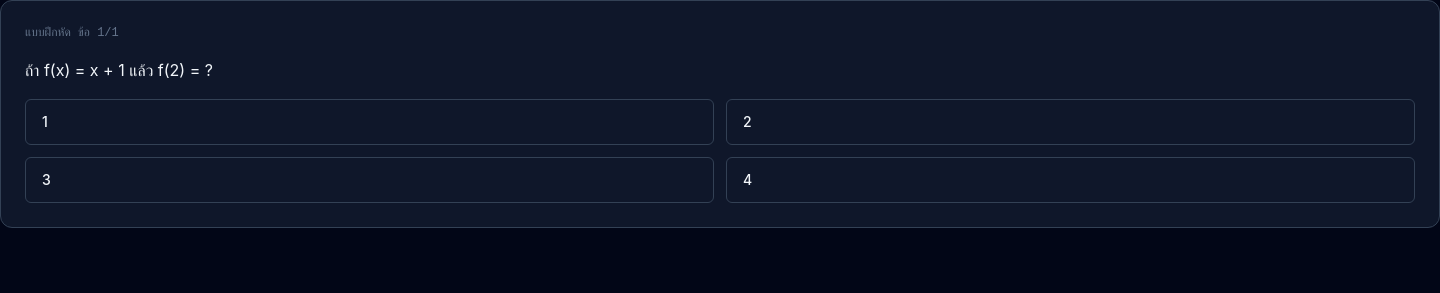
Test: correct choice shows success feedback
Click the button "3" at (46, 180), box [25,157,714,203]
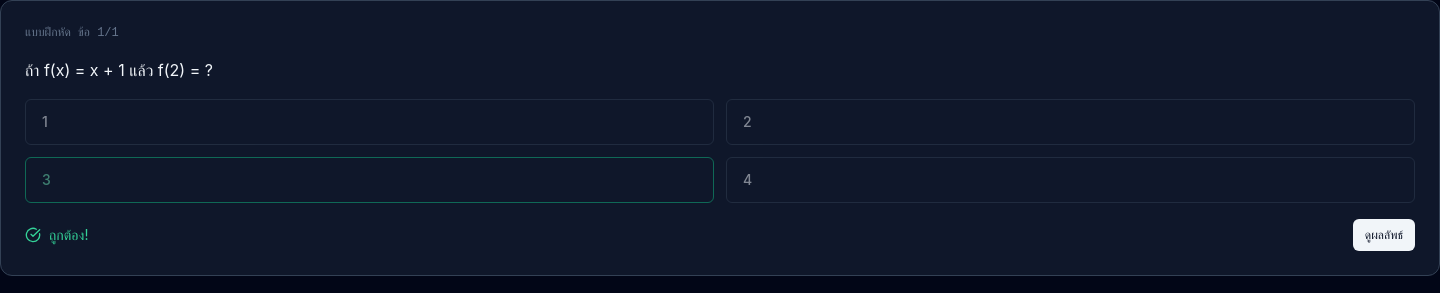
Expected: the text "ถูกต้อง!" is shown, [49,226,88,243]
